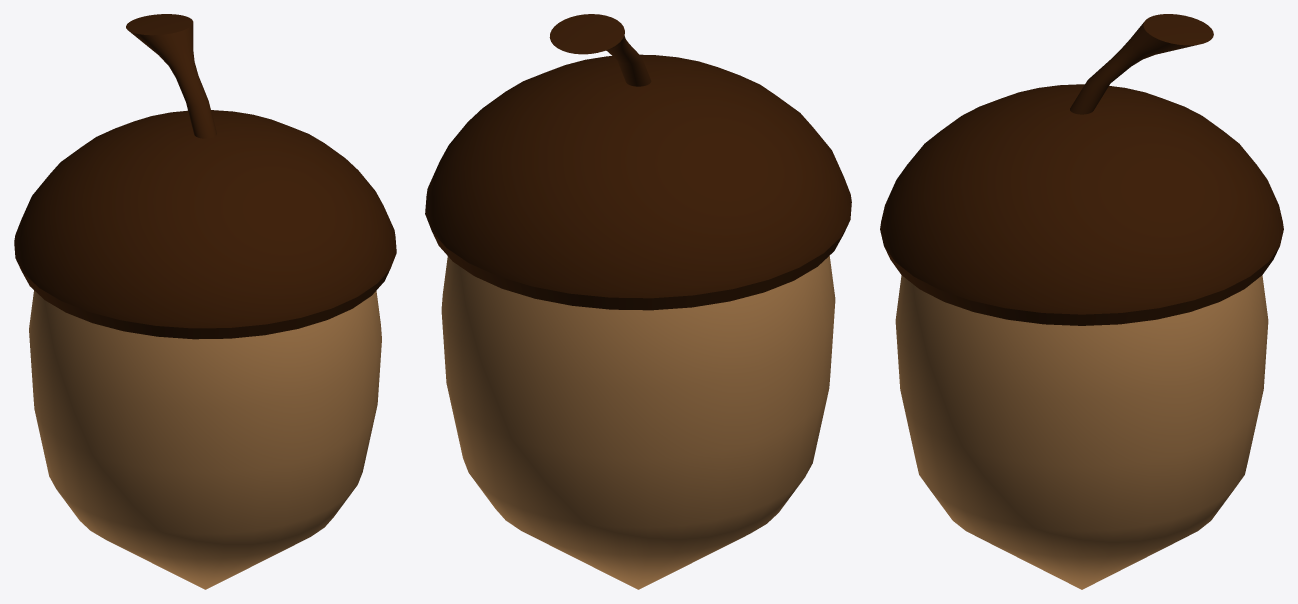
File: bellota.fbx
The picture shows the model from 3 angles, left to right: view 1: azimuth 30°, elevation 25°; view 2: azimuth 150°, elevation 25°; view 3: azimuth 270°, elevation 25°; orthographic projection. The views are drawn at different scales.
Visible parts, largest first — view 1: bellota; view 2: bellota; view 3: bellota.
Boxes of the visible parts, <box> form: bellota: <box>14,14,396,589</box>; bellota: <box>425,14,851,589</box>; bellota: <box>880,14,1283,589</box>.
Bounding box in the file's own units: 251 × 387 × 251.
